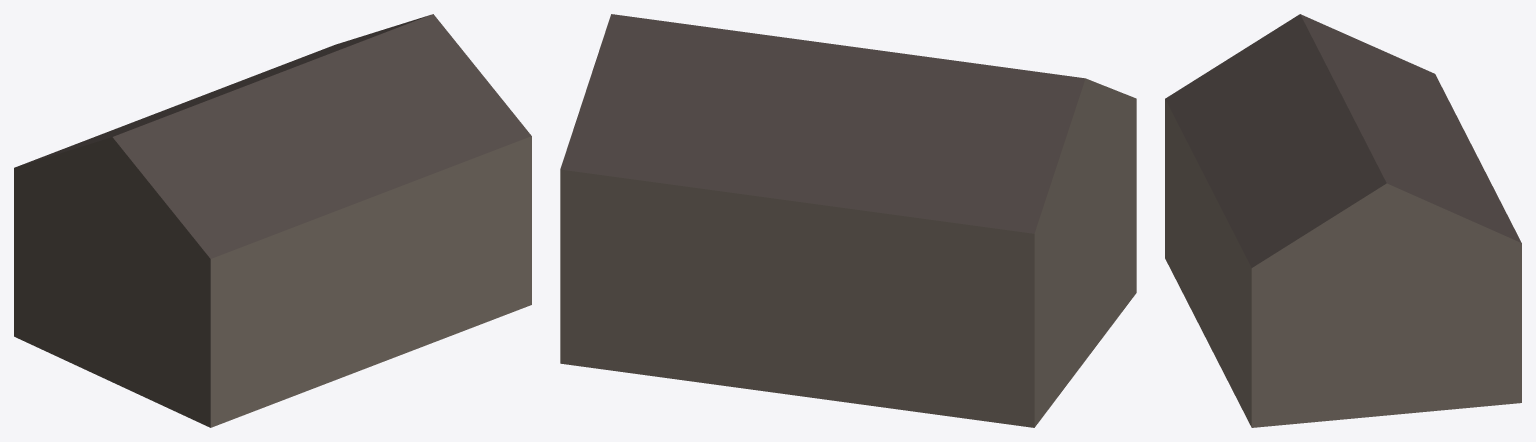
3 views of the same model, side by side, from view 1: azimuth 30°, elevation 25°; view 2: azimuth 150°, elevation 25°; view 3: azimuth 270°, elevation 25° (orthographic). The views are drawn at different scales.
Parts seen in each view (by area): view 1: HP-w389701964; view 2: HP-w389701964; view 3: HP-w389701964.
Boxes of the visible parts, x1=… form: HP-w389701964: x1=14, y1=14, x2=531, y2=427; HP-w389701964: x1=560, y1=14, x2=1136, y2=427; HP-w389701964: x1=1165, y1=14, x2=1521, y2=427.
Size of the model in its own units: 15.65 by 8.72 by 12.14.
